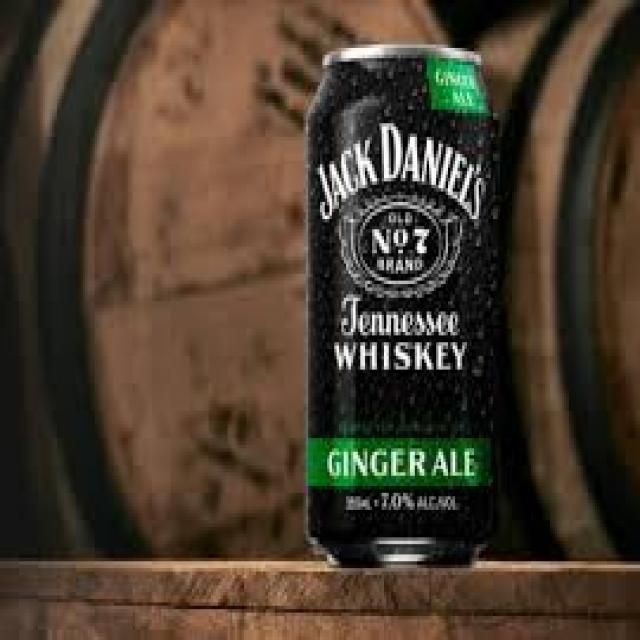Cans: (299, 34, 507, 578)
